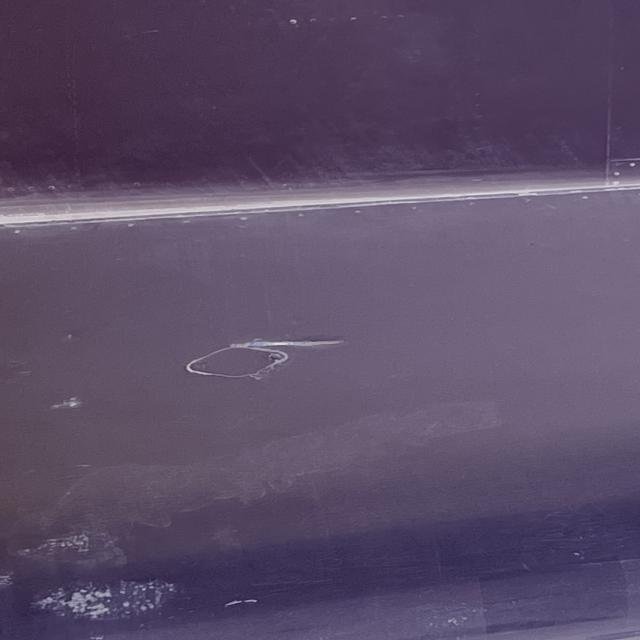crack: (242, 333, 329, 355)
